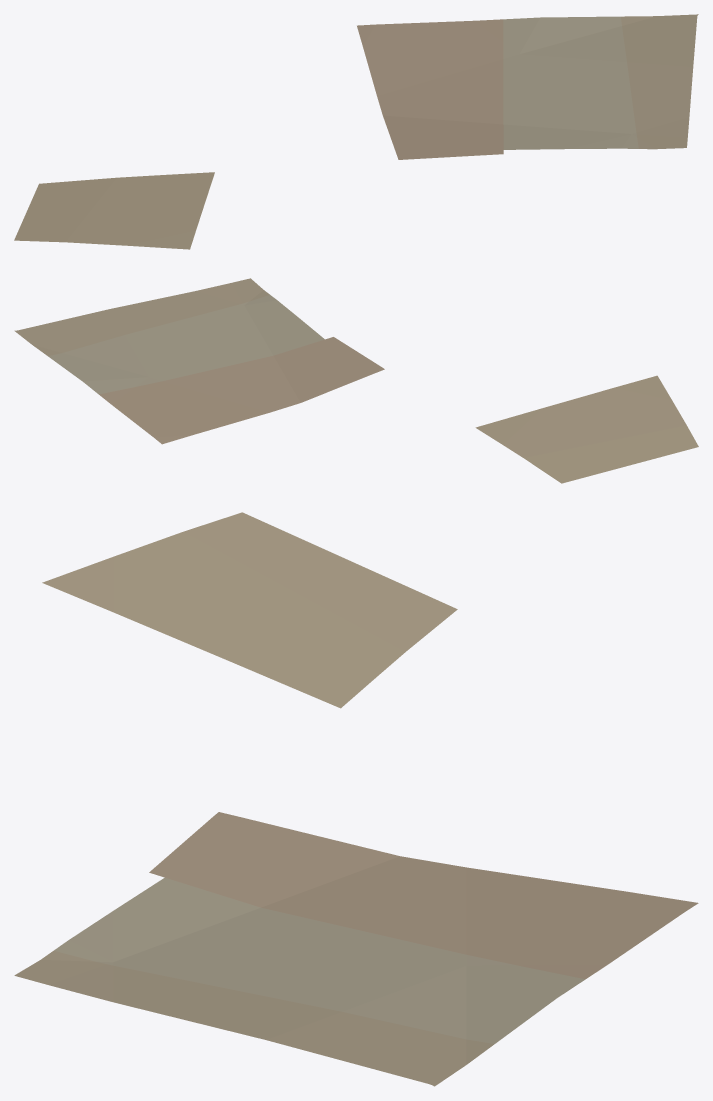
The model's file is farm_5_-5_soil.glb.
3 renders of one model, top to bottom at view 1: azimuth 30°, elevation 25°; view 2: azimuth 150°, elevation 25°; view 3: azimuth 270°, elevation 25°, orthographic. The views are drawn at different scales.
Parts seen in each view (by area): view 1: geometry_0; view 2: geometry_0; view 3: geometry_0.
Boxes of the visible parts, x1,y1,x2,y2 form: geometry_0: (14,14,698,249); geometry_0: (14,278,698,483); geometry_0: (14,512,698,1086).
Bounding box in the file's own units: 307 × 10.29 × 155.
